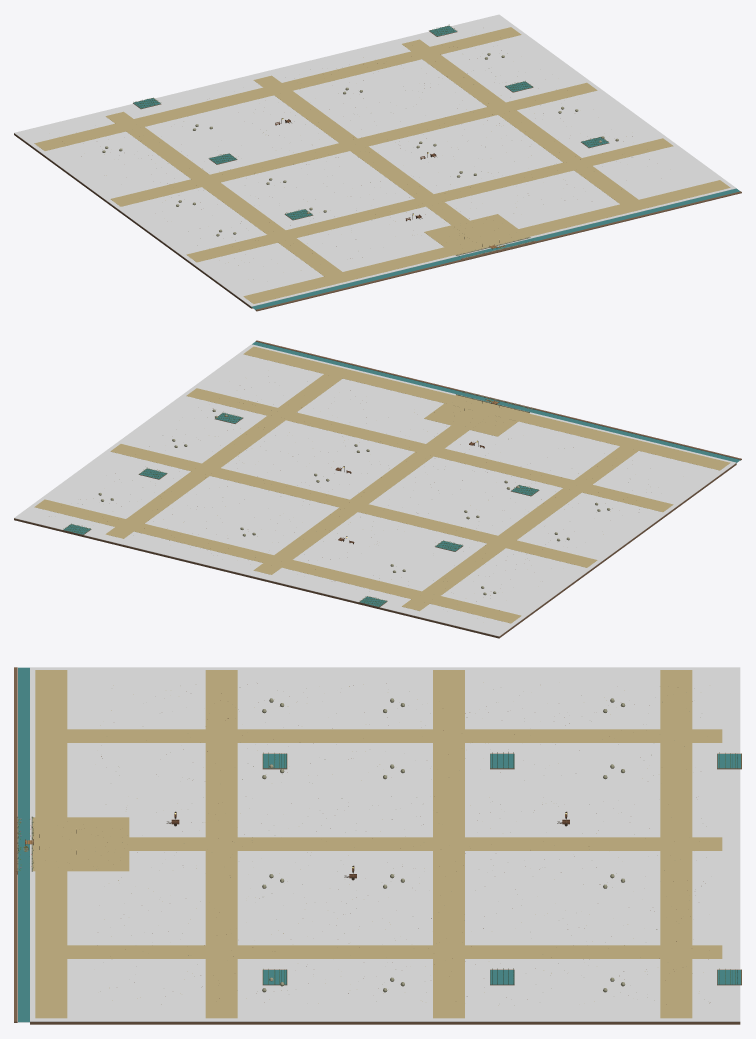
File: ayutthaya-wilds.glb
3 views of the same model, one above another, from view 1: azimuth 30°, elevation 25°; view 2: azimuth 150°, elevation 25°; view 3: azimuth 270°, elevation 25° (orthographic). The views are drawn at different scales.
Visible parts, largest first — view 1: Expanded ground · meadow, Regional avenues · sand, River extension · water, Far bank extension · earth, Terrain · sand, Rice irrigation · water, Rice shoots · reed, Expanded ground · earth; view 2: Expanded ground · meadow, Regional avenues · sand, Expanded ground · earth, River extension · water, Terrain · sand, Rice irrigation · water, Far bank extension · earth, Rice shoots · reed; view 3: Expanded ground · meadow, Regional avenues · sand, River extension · water, Terrain · sand, Rice irrigation · water, Expanded ground · earth, Far bank extension · earth, Forest boulders · stone, River · water, Rice terrace · earth.
Part boxes in pixels (<box>): Expanded ground · meadow: <box>14,14,736,306</box>; Regional avenues · sand: <box>34,27,730,303</box>; River extension · water: <box>251,188,739,309</box>; Far bank extension · earth: <box>255,191,741,311</box>; Terrain · sand: <box>424,214,528,255</box>; Rice irrigation · water: <box>133,26,608,219</box>; Rice shoots · reed: <box>134,24,608,218</box>; Expanded ground · earth: <box>14,133,252,308</box>; Expanded ground · meadow: <box>14,344,736,636</box>; Regional avenues · sand: <box>34,346,730,623</box>; Expanded ground · earth: <box>14,463,736,638</box>; River extension · water: <box>252,341,740,463</box>; Terrain · sand: <box>424,395,529,436</box>; Rice irrigation · water: <box>63,413,538,606</box>; Far bank extension · earth: <box>255,340,741,460</box>; Rice shoots · reed: <box>63,412,538,606</box>; Expanded ground · meadow: <box>30,667,740,1021</box>; Regional avenues · sand: <box>35,670,722,1018</box>; River extension · water: <box>18,667,29,1022</box>; Terrain · sand: <box>33,817,129,871</box>; Rice irrigation · water: <box>263,754,740,984</box>; Expanded ground · earth: <box>30,1022,740,1024</box>; Far bank extension · earth: <box>14,667,17,1022</box>; Forest boulders · stone: <box>262,698,625,992</box>; River · water: <box>18,817,29,871</box>; Rice terrace · earth: <box>262,753,741,985</box>.
Bounding box in the file's own units: 236 × 3.9 × 205.
